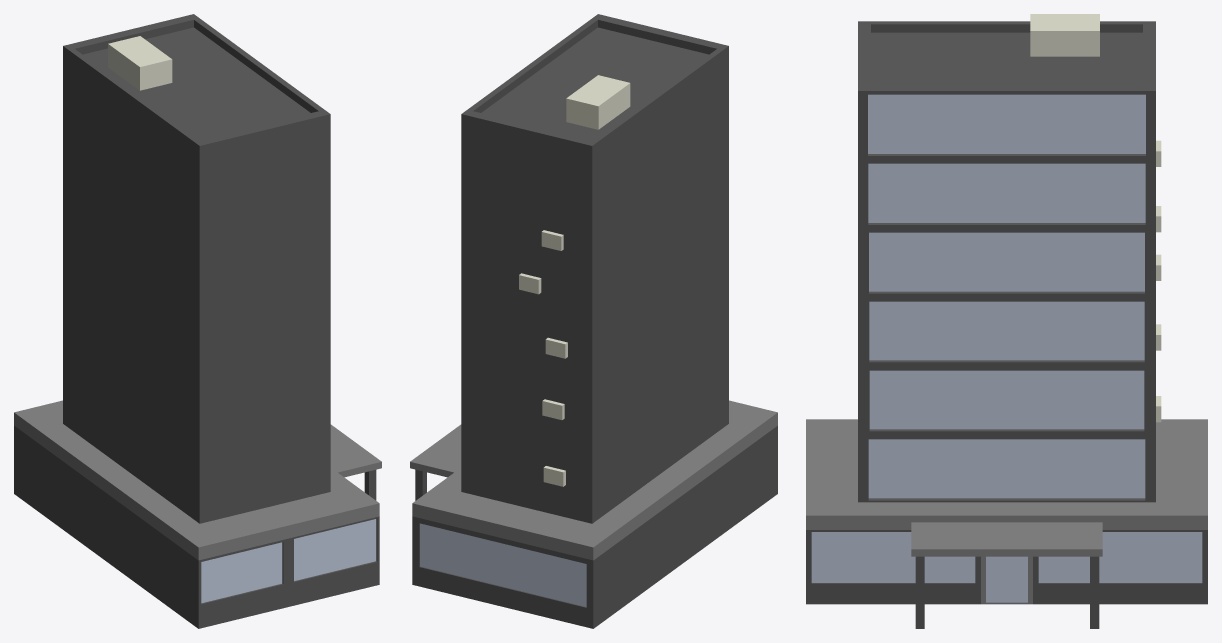
Rendered from Tower_1.fbx.
The picture shows the model from 3 angles, left to right: view 1: azimuth 30°, elevation 25°; view 2: azimuth 150°, elevation 25°; view 3: azimuth 270°, elevation 25°; orthographic projection. The views are drawn at different scales.
Parts seen in each view (by area): view 1: Tower 1; view 2: Tower 1; view 3: Tower 1.
Boxes of the visible parts, x1,y1,x2,y2 form: Tower 1: [14, 14, 381, 628]; Tower 1: [410, 14, 777, 628]; Tower 1: [806, 14, 1207, 628].
Size of the model in its own units: 354 by 695 by 489.
